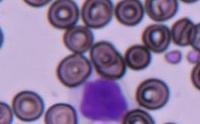L: (80, 78, 132, 123)
